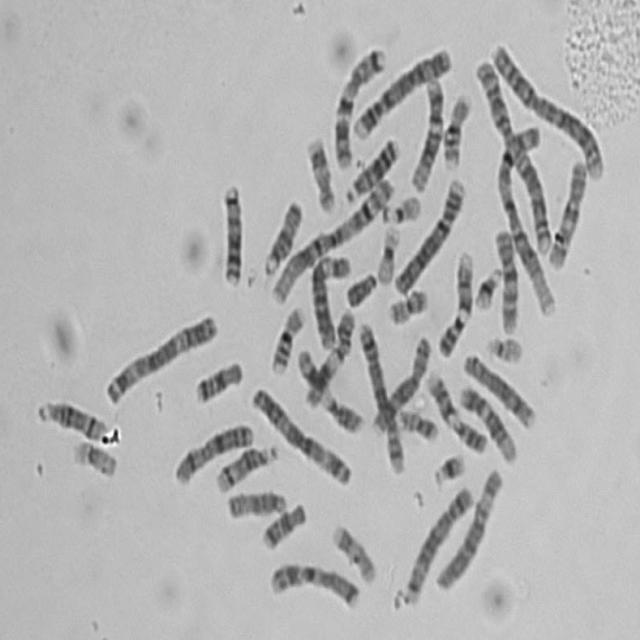A1: (264, 169, 396, 306), (492, 115, 558, 320)
A2: (482, 34, 608, 180), (471, 51, 556, 262)
A3: (99, 304, 221, 406), (245, 377, 354, 487)
B4: (348, 39, 453, 142), (389, 170, 467, 298)
B5: (398, 476, 476, 606), (353, 313, 406, 475)
C10: (543, 152, 588, 271), (489, 220, 522, 336)
C11: (291, 339, 365, 436), (298, 299, 358, 410)
C12: (454, 376, 519, 464), (406, 69, 447, 193)
C6: (430, 458, 505, 592), (305, 245, 353, 351)
C7: (328, 36, 388, 170), (264, 554, 362, 612)
C8: (457, 344, 538, 431), (368, 328, 433, 435)
C9: (421, 364, 488, 455), (432, 242, 476, 359)
D13: (340, 129, 402, 205), (216, 175, 245, 288)
D14: (211, 436, 280, 494), (32, 391, 108, 442)
D15: (259, 192, 304, 279), (221, 482, 289, 520)
E16: (264, 298, 306, 376), (437, 84, 473, 171)
E17: (326, 516, 378, 586), (301, 127, 337, 213)
E18: (256, 493, 308, 551), (189, 352, 245, 405)
F19: (68, 430, 120, 480), (372, 217, 402, 286)
F20: (382, 280, 431, 326), (392, 401, 440, 443)
G21: (469, 258, 504, 312), (428, 445, 467, 487)
G22: (377, 187, 423, 225), (482, 327, 525, 365)
X: (168, 415, 255, 487)
Y: (341, 263, 378, 308)
